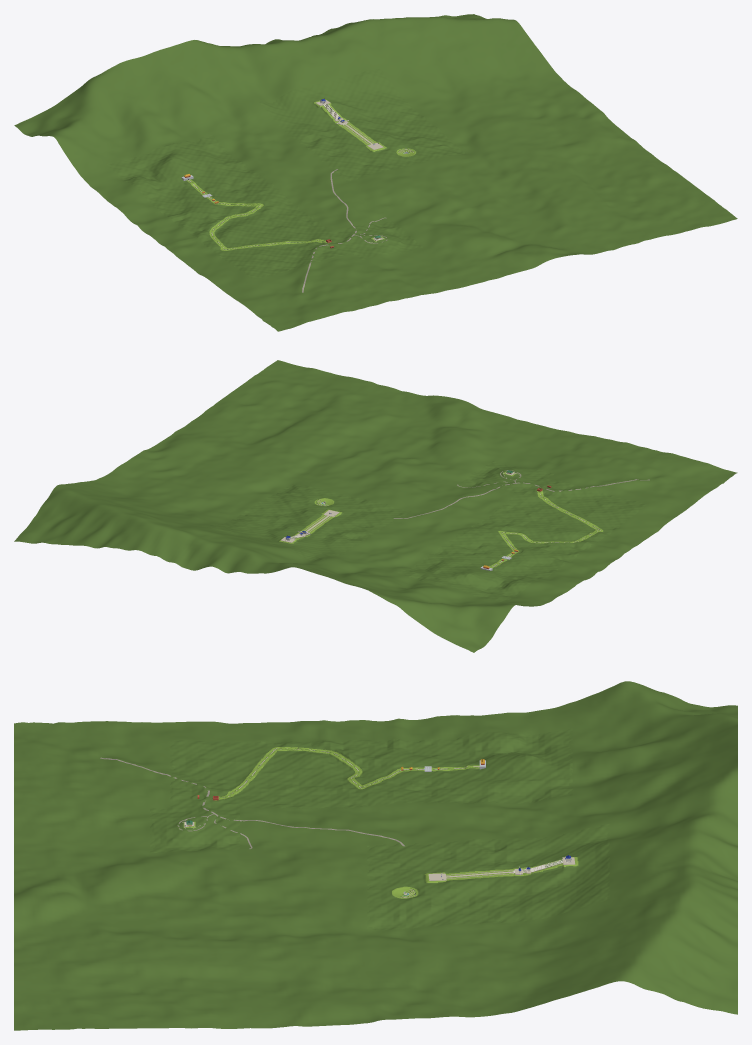
The model's file is static.glb.
3 renders of one model, top to bottom at view 1: azimuth 30°, elevation 25°; view 2: azimuth 150°, elevation 25°; view 3: azimuth 270°, elevation 25°, orthographic. The views are drawn at different scales.
Visible parts, largest first — view 1: Ground, Mausoleum axis; view 2: Ground, Mausoleum axis; view 3: Ground, Mausoleum axis, Meiling.
Part boxes in pixels (<box>): Ground: <box>14,14,737,331</box>; Mausoleum axis: <box>186,98,413,249</box>; Ground: <box>14,360,737,652</box>; Mausoleum axis: <box>281,472,600,566</box>; Ground: <box>14,681,737,1030</box>; Mausoleum axis: <box>182,748,575,897</box>; Meiling: <box>100,757,404,848</box>.
Bounding box in the file's own units: 3552 × 411 × 3528.
